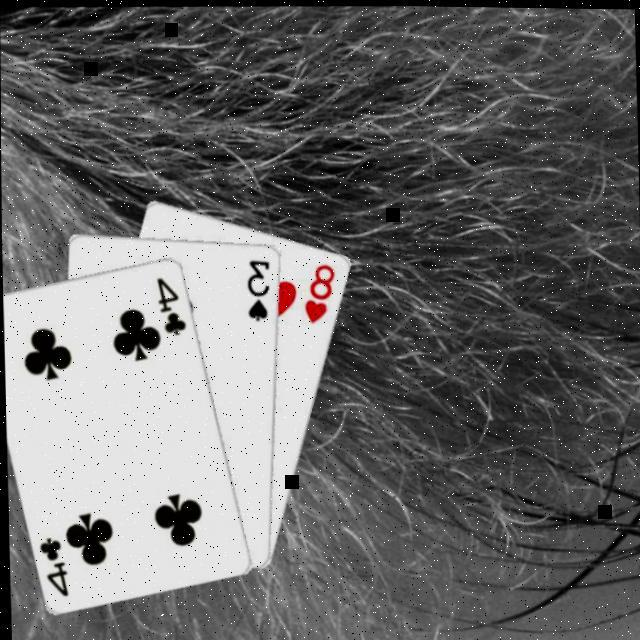3S: (241, 256, 271, 323)
4C: (33, 532, 69, 600), (152, 273, 186, 338)
8H: (298, 259, 337, 326)
